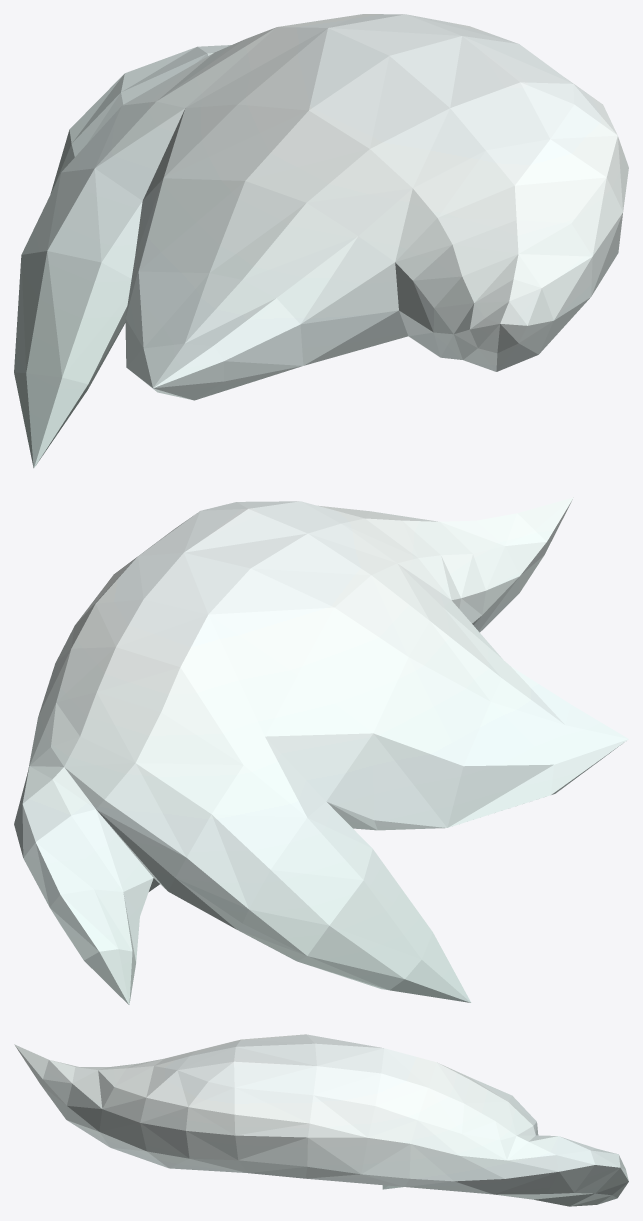
Rendered from CharSkyKid_Hair_TopOneSideS.glb.
The picture shows the model from 3 angles, top to bottom: view 1: azimuth 30°, elevation 25°; view 2: azimuth 150°, elevation 25°; view 3: azimuth 270°, elevation 25°; orthographic projection. The views are drawn at different scales.
Parts seen in each view (by area): view 1: CharSkyKid_Hair_TopOneSideS; view 2: CharSkyKid_Hair_TopOneSideS; view 3: CharSkyKid_Hair_TopOneSideS.
Part boxes in pixels (left/top/right/bottom): CharSkyKid_Hair_TopOneSideS: left=14, top=14, right=628, bottom=468; CharSkyKid_Hair_TopOneSideS: left=14, top=497, right=628, bottom=1004; CharSkyKid_Hair_TopOneSideS: left=14, top=1034, right=628, bottom=1206.
Bounding box in the file's own units: 1.74 × 1.27 × 2.93.
Materials: 1 (1 with a texture image).
